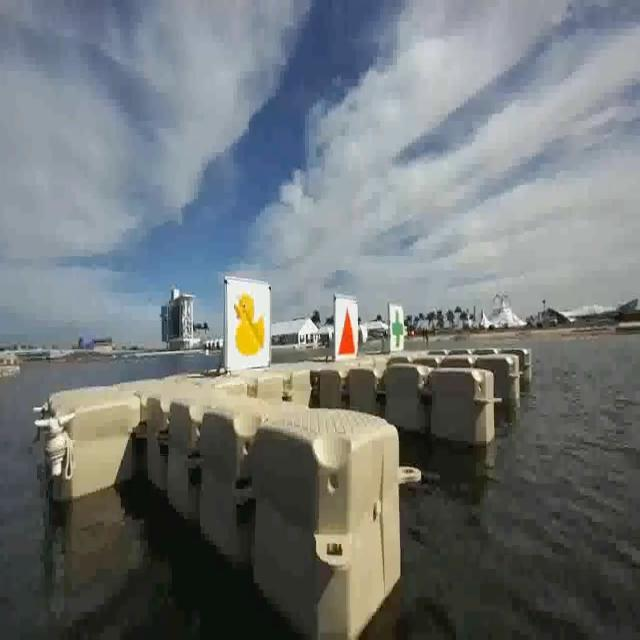blue-cross: (389, 302, 406, 352)
yellow-duck: (224, 277, 271, 373)
